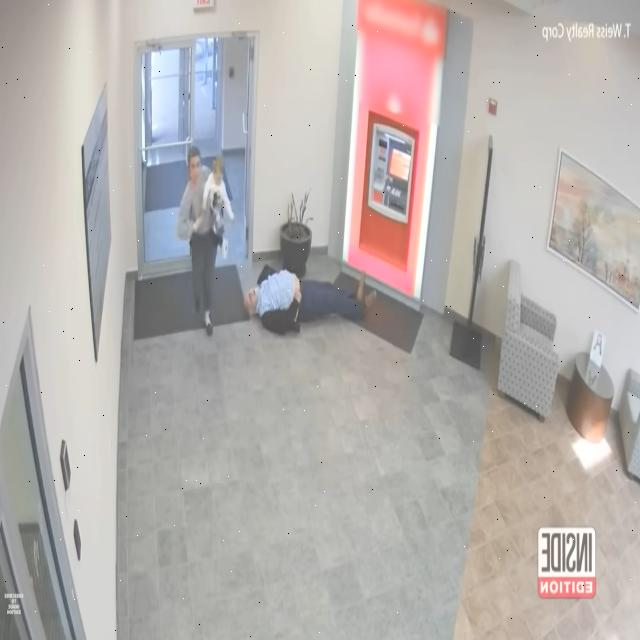fallen: (245, 266, 377, 335)
standing: (177, 148, 224, 335)
